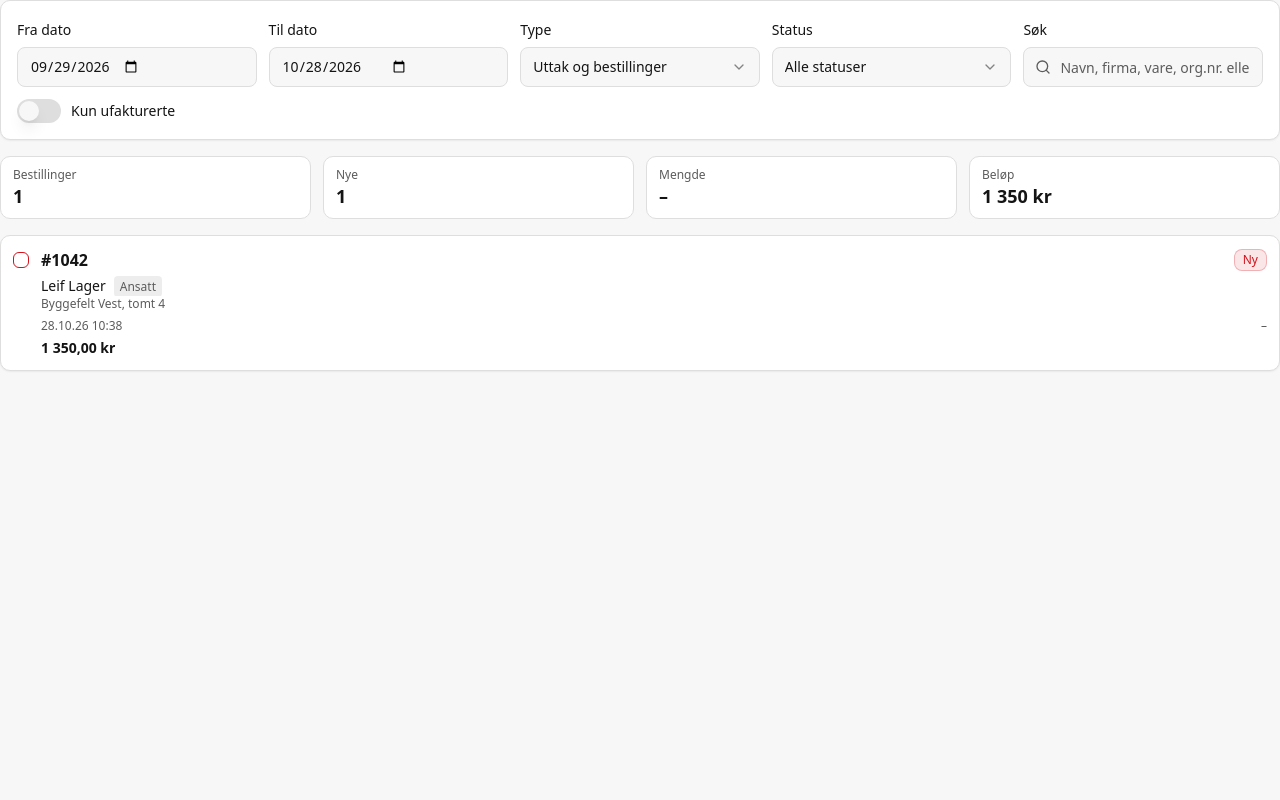
it: uttak frå tilsette › er merkt «Ansatt» i lista, og panelet seier kven som tok ut og til kva jobb
Expected: the text "Ansatt" is shown, [114,276,162,296]
Click the text "Leif Lager": (102, 286) [41,276,162,297]
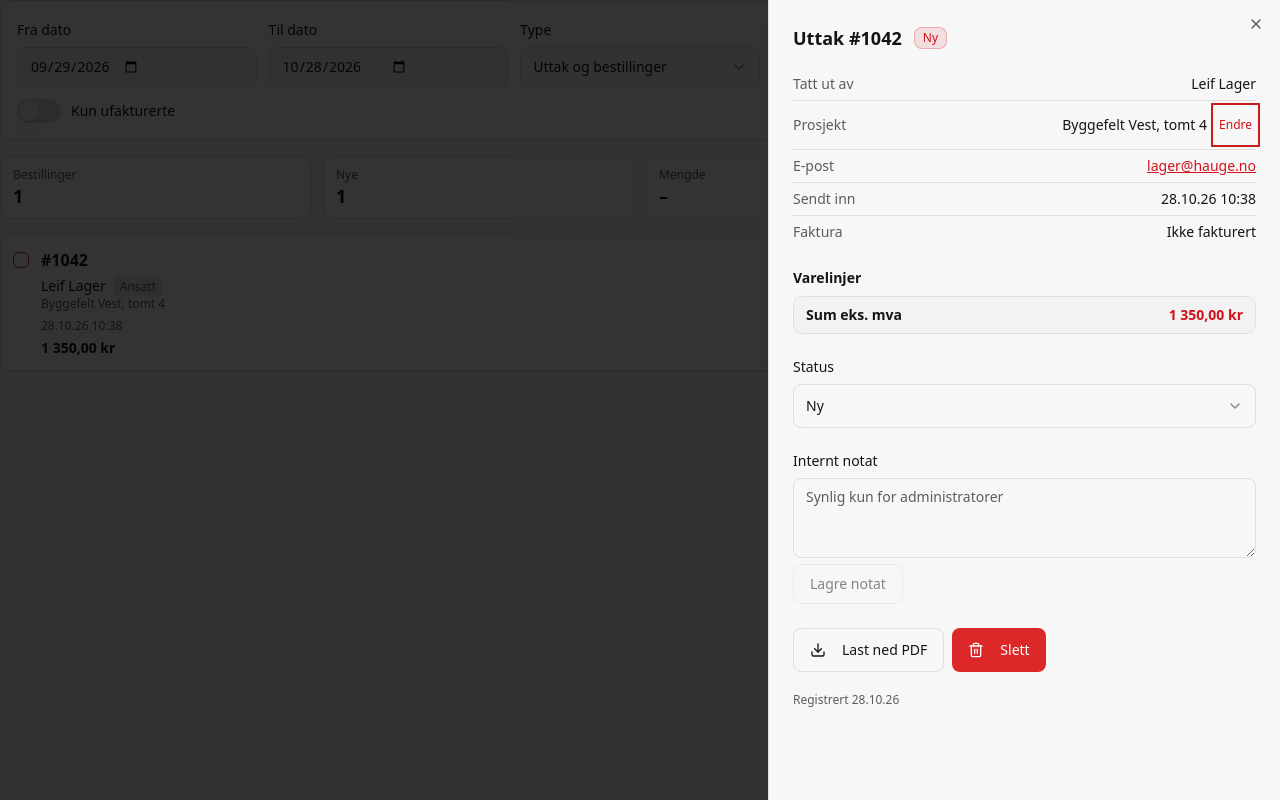
Expected: the text "Tatt ut av" is shown, [793,74,854,94]
Expected: the text "Byggefelt Vest, tomt 4" is shown, [1062,115,1207,135]
